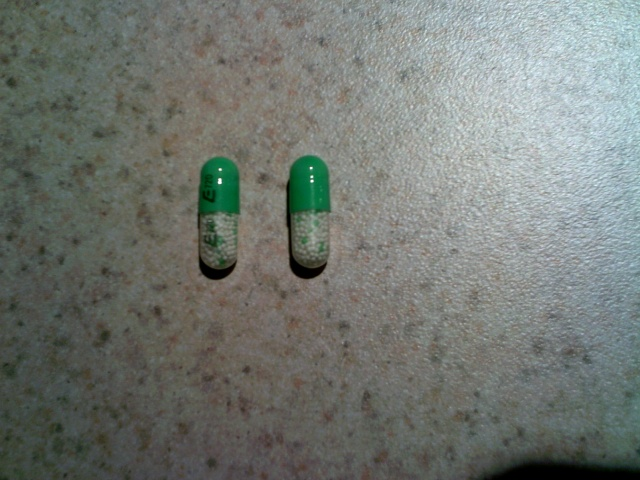capsule: (198, 156, 241, 274), (287, 155, 331, 270)
